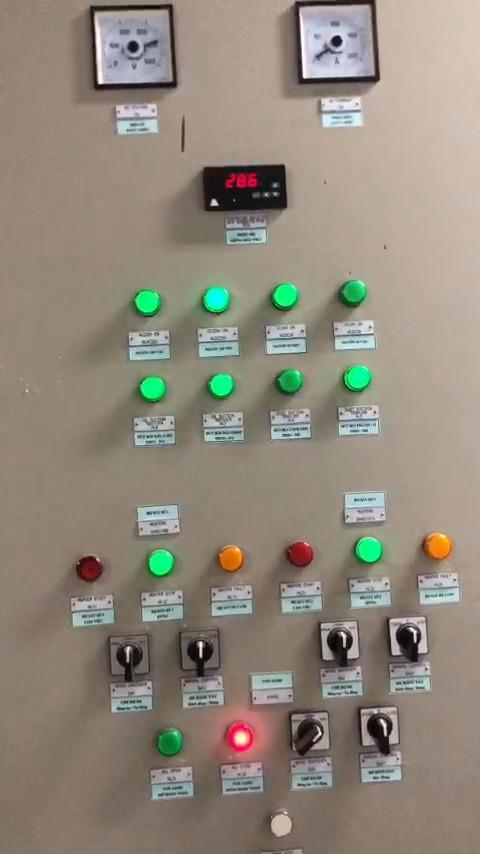led: (75, 552, 109, 585), (224, 721, 255, 754), (154, 729, 187, 760), (269, 283, 304, 311), (134, 288, 165, 319), (425, 531, 455, 563), (354, 536, 386, 566), (338, 278, 369, 308), (218, 545, 248, 575), (148, 549, 178, 579), (287, 539, 315, 571), (208, 370, 238, 399), (344, 365, 373, 394), (203, 286, 231, 315), (277, 368, 306, 396), (140, 375, 167, 404), (268, 811, 294, 838)
twist: (110, 632, 152, 680), (320, 620, 361, 665), (180, 629, 221, 671), (292, 710, 331, 754), (389, 618, 429, 659), (360, 704, 400, 745)
